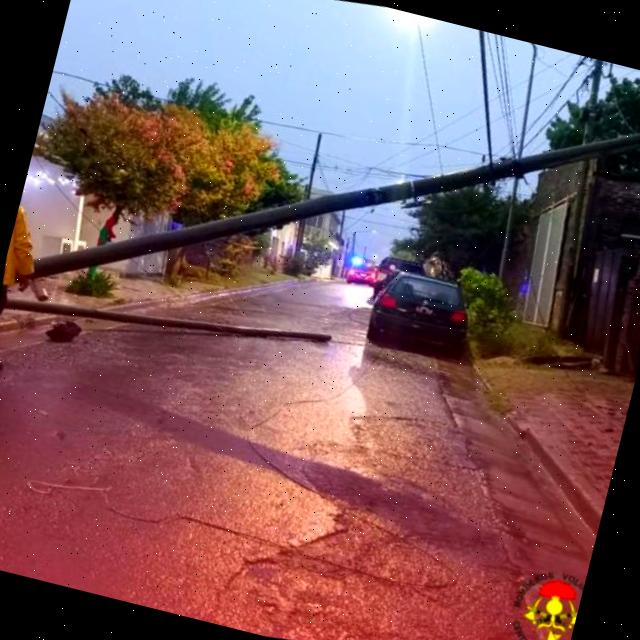Broken Pole: (33, 134, 640, 280), (4, 296, 333, 347)
